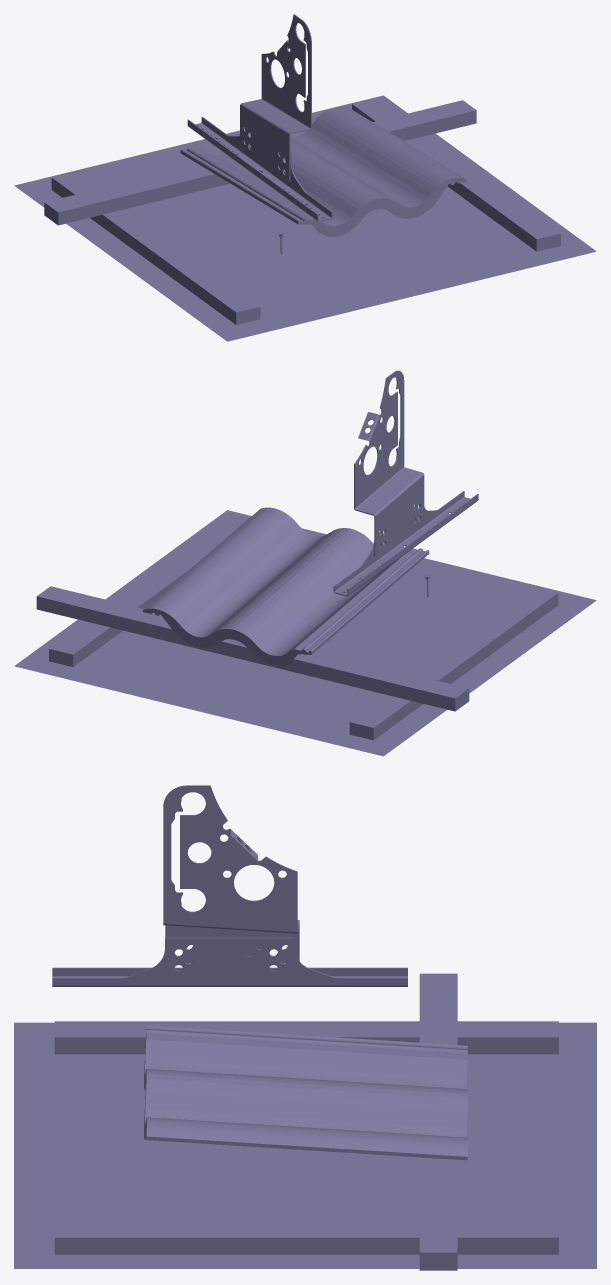
File: Konsol_CWL.glb
The picture shows the model from 3 angles, top to bottom: view 1: azimuth 30°, elevation 25°; view 2: azimuth 150°, elevation 25°; view 3: azimuth 270°, elevation 25°; orthographic projection. The views are drawn at different scales.
Parts seen in each view (by area): view 1: Plane, takPanna betong, Läkt 36x48, 420073-1, Läkt 36x48.001, Läkt 36x48.002, 410003-2.008; view 2: Plane, takPanna betong, Läkt 36x48, 420073-1, Läkt 36x48.001, Läkt 36x48.002, 410003-2.008; view 3: Plane, takPanna betong, Läkt 36x48.002, 420073-1, 410003-2.008, Läkt 36x48.001, Läkt 36x48.
Part boxes in pixels (x1=…): Plane: x1=14, y1=95, x2=596, y2=341; takPanna betong: x1=180, y1=106, x2=466, y2=237; Läkt 36x48: x1=44, y1=100, x2=476, y2=225; 420073-1: x1=240, y1=14, x2=311, y2=181; Läkt 36x48.001: x1=51, y1=171, x2=260, y2=324; Läkt 36x48.002: x1=352, y1=98, x2=560, y2=251; 410003-2.008: x1=187, y1=116, x2=332, y2=221; Plane: x1=14, y1=510, x2=596, y2=756; takPanna betong: x1=143, y1=507, x2=429, y2=666; Läkt 36x48: x1=36, y1=586, x2=469, y2=711; 420073-1: x1=354, y1=370, x2=424, y2=556; Läkt 36x48.001: x1=349, y1=587, x2=558, y2=740; Läkt 36x48.002: x1=49, y1=514, x2=249, y2=666; 410003-2.008: x1=333, y1=491, x2=478, y2=596; Plane: x1=14, y1=1022, x2=596, y2=1268; takPanna betong: x1=144, y1=1025, x2=468, y2=1160; Läkt 36x48.002: x1=54, y1=1221, x2=558, y2=1254; 420073-1: x1=163, y1=785, x2=299, y2=967; 410003-2.008: x1=52, y1=937, x2=407, y2=986; Läkt 36x48.001: x1=54, y1=1021, x2=558, y2=1054; Läkt 36x48: x1=419, y1=973, x2=457, y2=1270.
Bounding box in the file's own units: 0.8358 × 0.4609 × 0.738.
